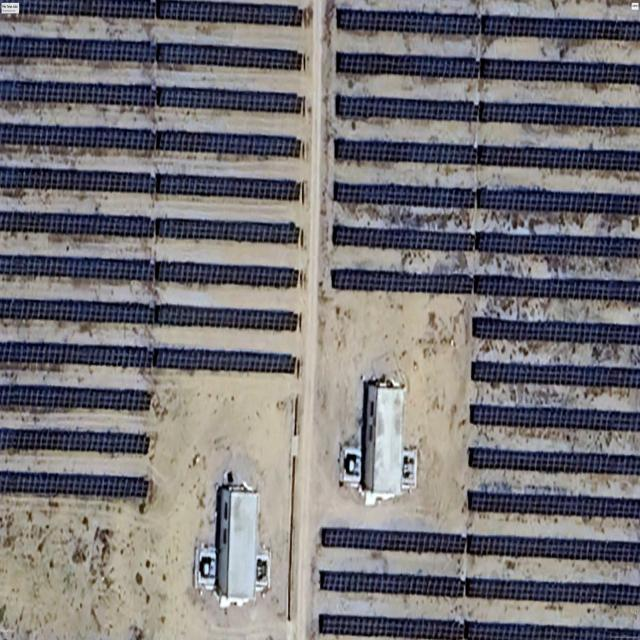Solar Panels: (0, 35, 303, 70), (335, 94, 640, 128), (0, 167, 301, 201), (0, 298, 300, 332), (331, 269, 640, 302), (0, 254, 299, 288), (333, 182, 640, 215), (334, 139, 640, 172), (0, 80, 304, 113), (336, 52, 640, 85), (337, 8, 640, 41), (0, 124, 302, 157), (0, 211, 300, 244), (0, 342, 297, 374), (319, 614, 640, 640), (21, 0, 303, 27), (466, 534, 640, 563), (468, 490, 640, 519), (468, 447, 640, 476), (465, 577, 640, 605), (472, 317, 640, 345), (470, 404, 640, 431), (471, 361, 640, 388), (0, 427, 150, 456), (0, 471, 150, 500), (474, 232, 640, 258), (0, 384, 152, 412), (332, 224, 474, 252), (321, 527, 466, 554), (320, 570, 464, 597)
